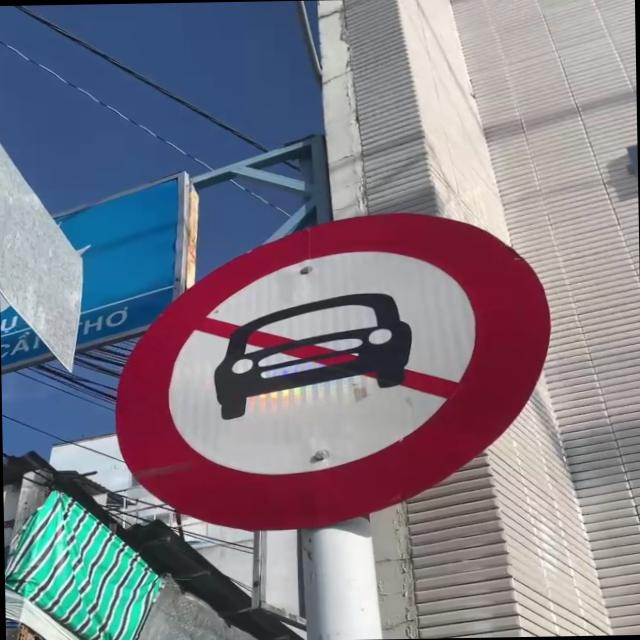Cam_O_To: (104, 204, 566, 536)
